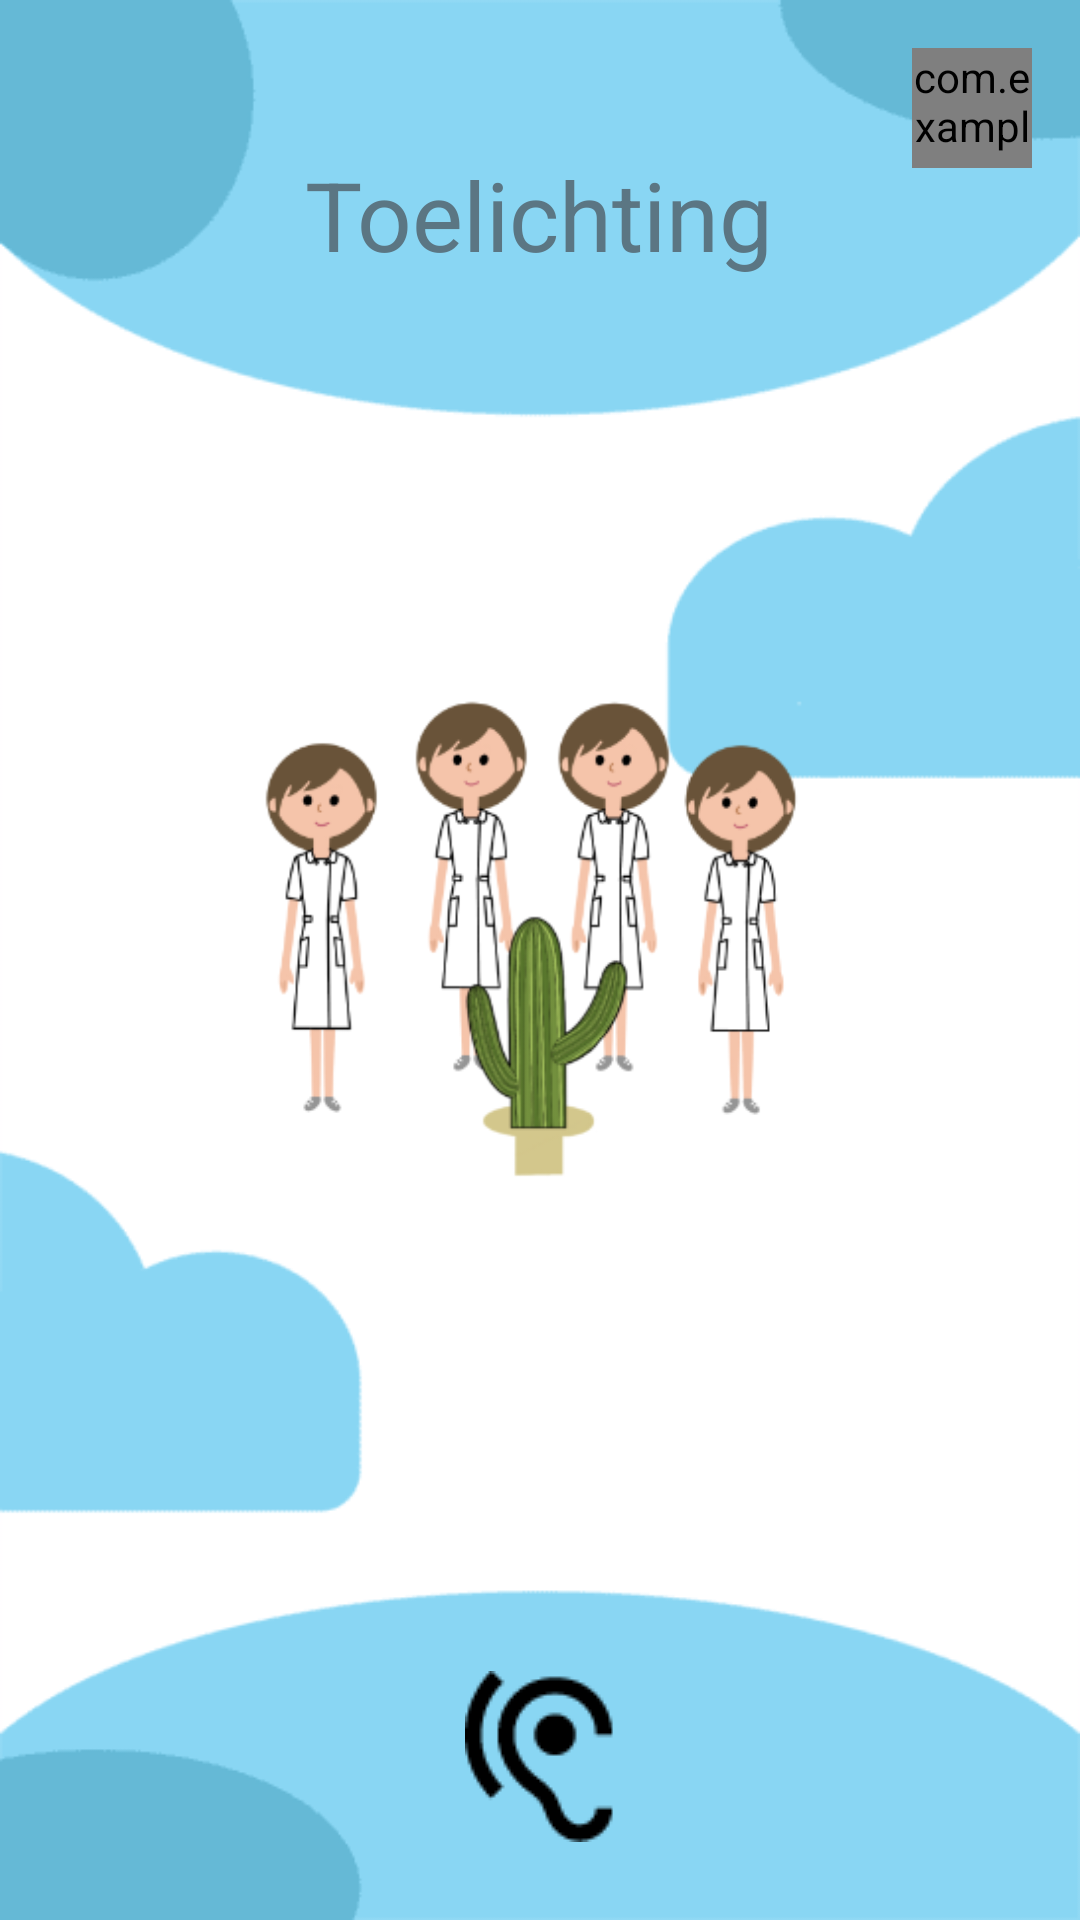

Where icons sit on this 1080 × 1920 app screen, as region(x1, y1, x2, y2):
pictogram oortje: region(465, 1671, 613, 1842)
